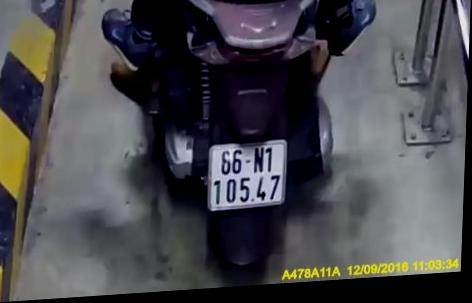License_Plate: (199, 133, 294, 216)
